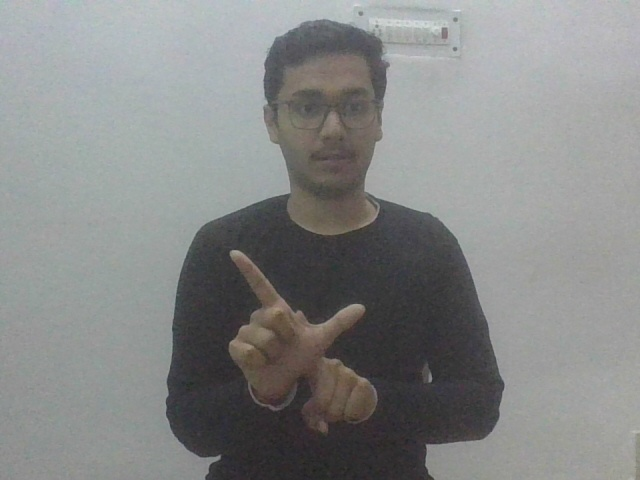Y: (220, 246, 381, 438)
